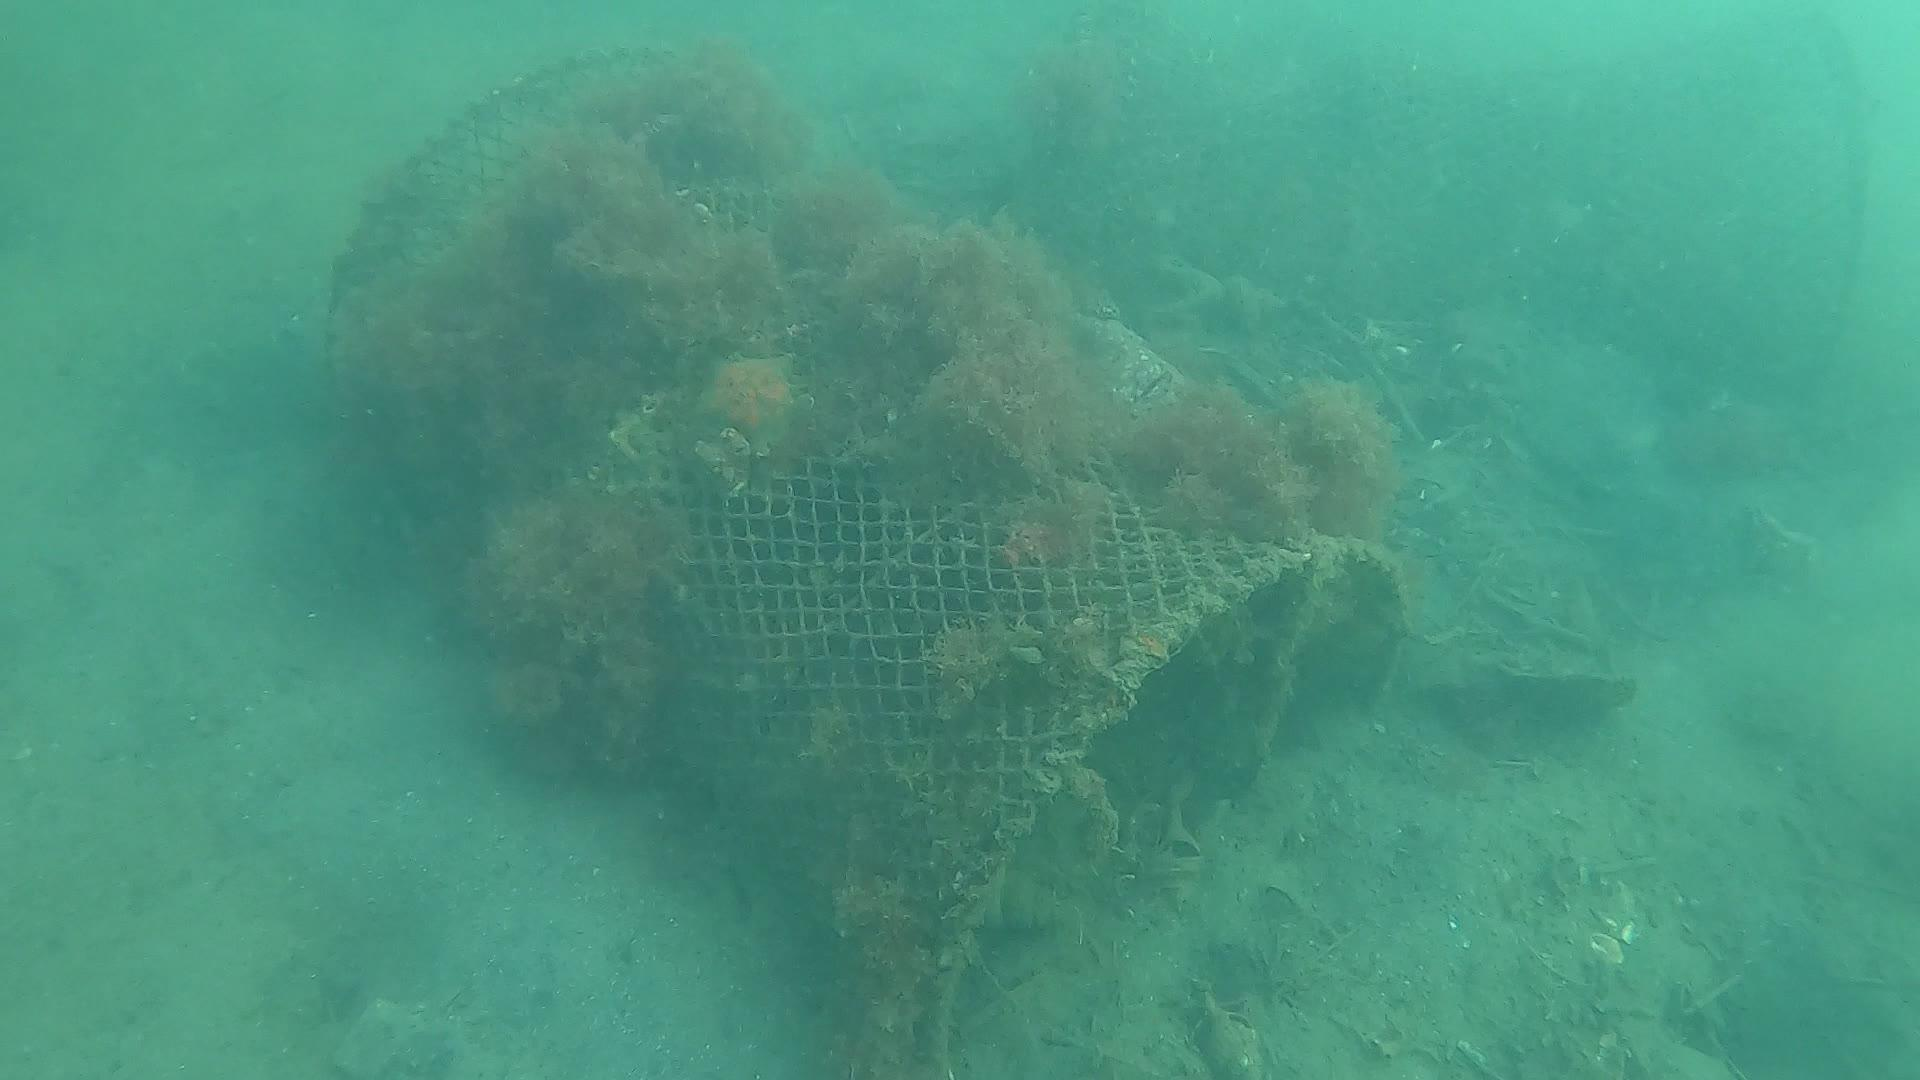spring fish trap: (319, 44, 1414, 1080)
